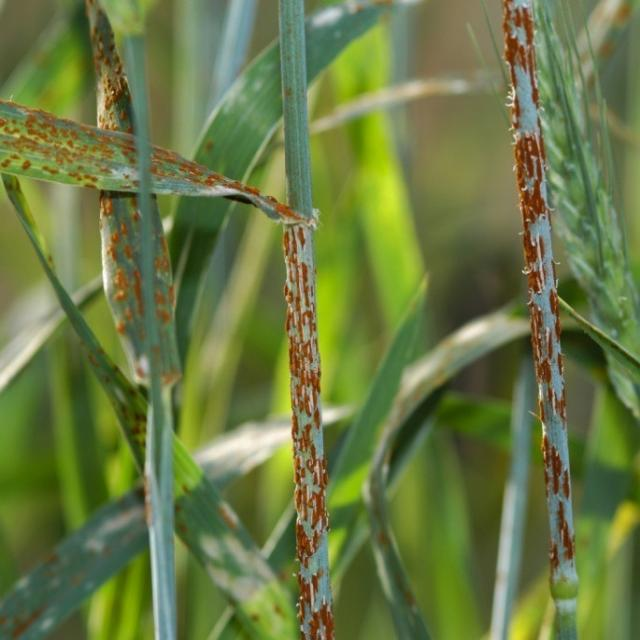wheat-stemrust: (504, 0, 578, 640), (88, 0, 183, 399), (0, 100, 302, 221), (281, 221, 335, 640)
